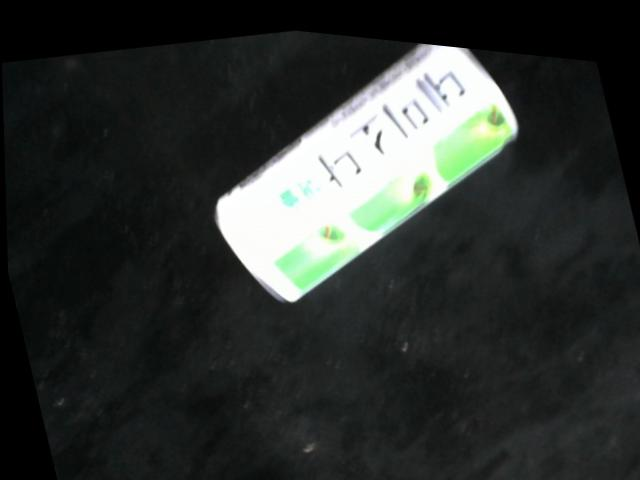can: (211, 34, 520, 299)
